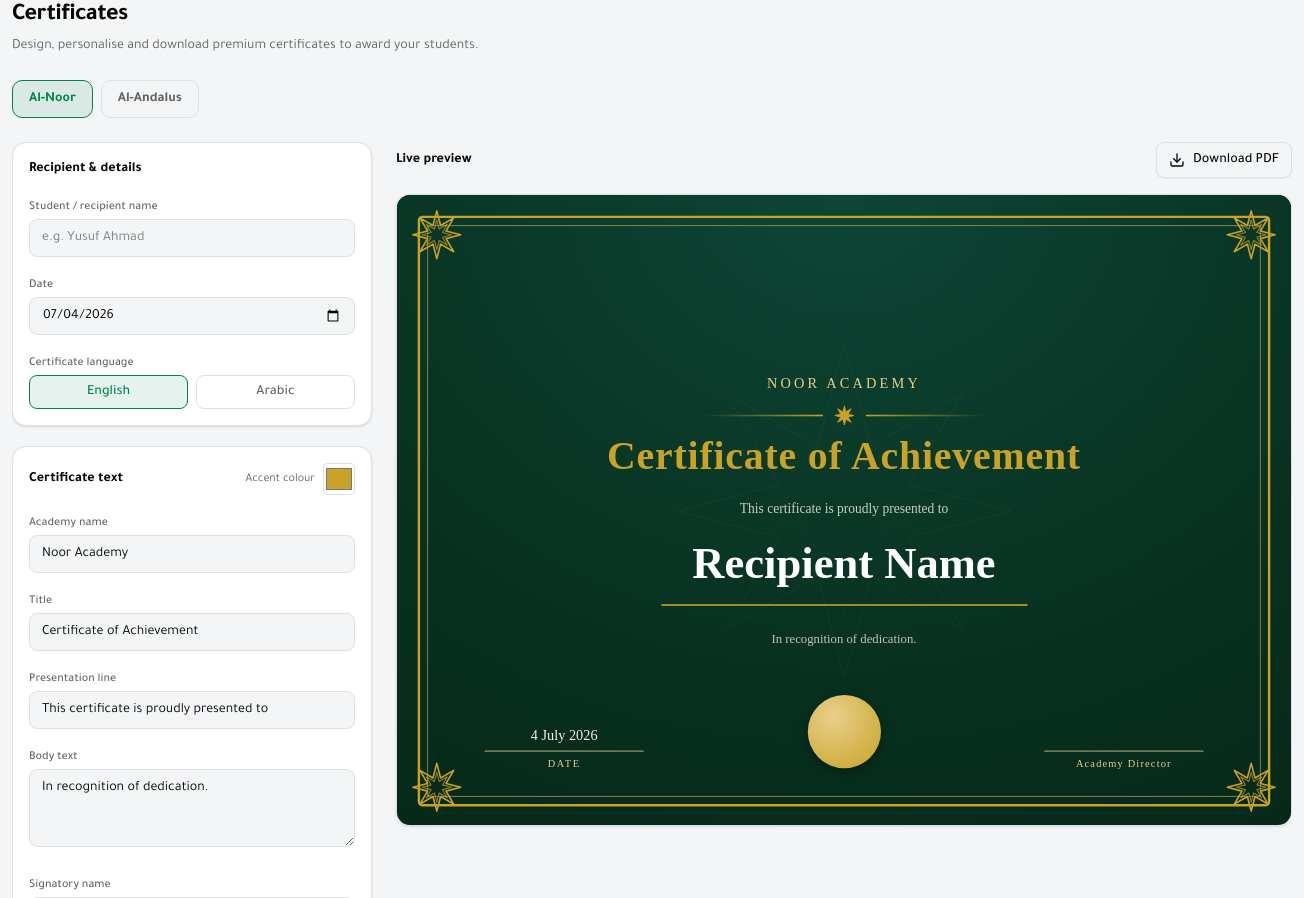
Test case: CertificatesScreen › reflects a recipient name edit in the live preview
The width and height of the screenshot is (1304, 898).
Expected: the field labelled "Title" is shown, [29,613,355,651]
Type "Yusuf Ahmad" into the field labelled "Student / recipient name" at (192, 238), box [29,219,355,257]
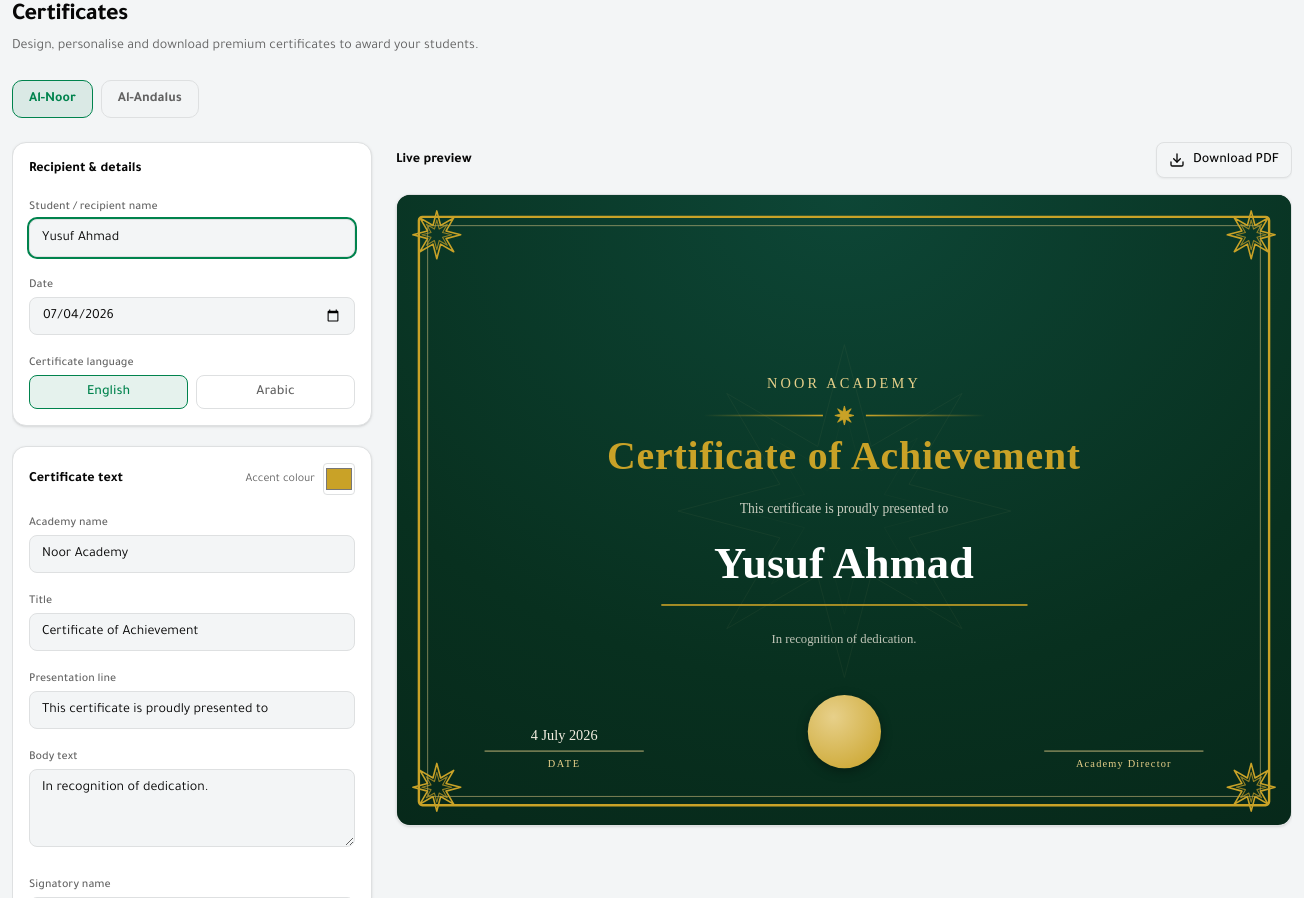
Now the text "Yusuf Ahmad" is shown, box [661,530,1027,606]
